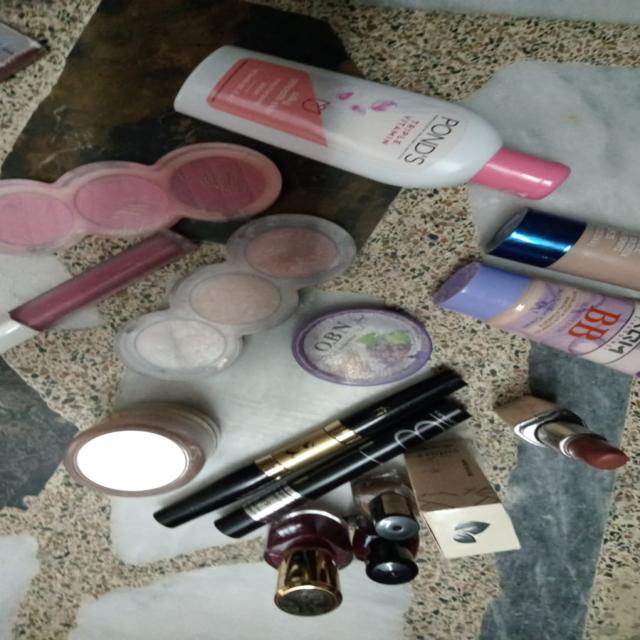bb cream: (417, 210, 640, 364)
eye shade: (106, 207, 352, 397), (0, 146, 292, 238)
foundation: (43, 388, 214, 526)
lip balm: (288, 292, 453, 408)
lip shade: (472, 368, 640, 499)
lotion: (174, 36, 601, 234)
nail polish: (262, 485, 460, 616)
